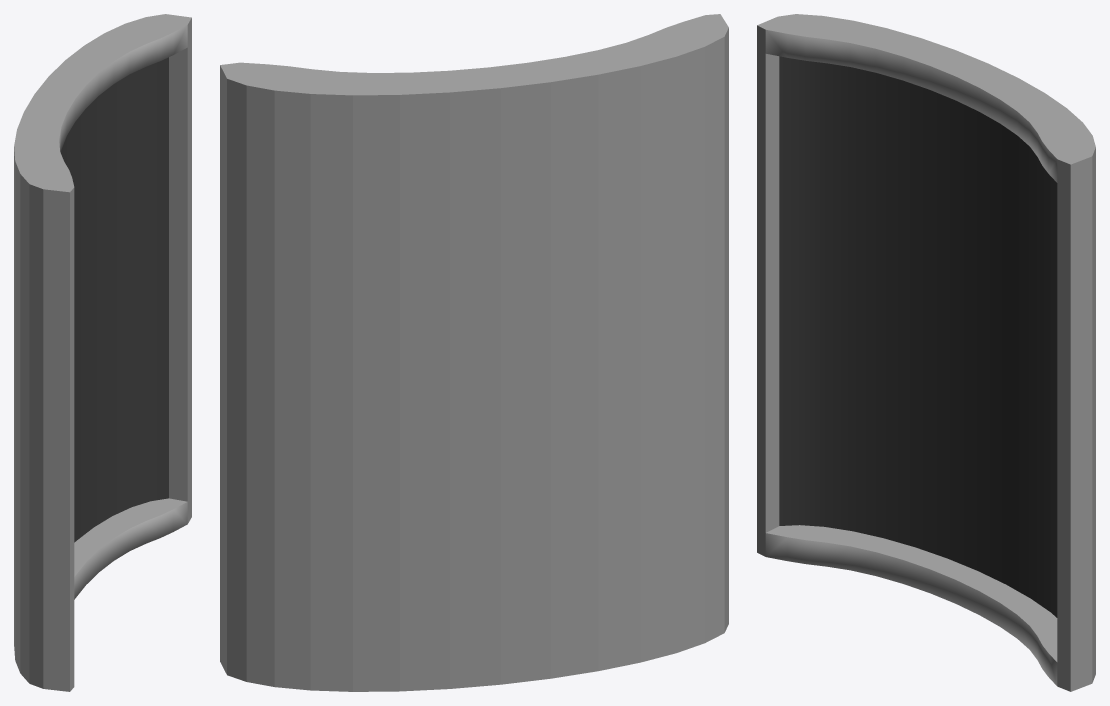
The model's file is -Eject Monitor-.fbx.
The picture shows the model from 3 angles, left to right: view 1: azimuth 30°, elevation 25°; view 2: azimuth 150°, elevation 25°; view 3: azimuth 270°, elevation 25°; orthographic projection. The views are drawn at different scales.
Visible parts, largest first — view 1: Eject_Monitor.Edge, Eject_Monitor.Screen; view 2: Eject_Monitor.Edge; view 3: Eject_Monitor.Screen, Eject_Monitor.Edge.
Part boxes in pixels (<box>): Eject_Monitor.Edge: <box>14,14,191,691</box>; Eject_Monitor.Screen: <box>61,57,168,542</box>; Eject_Monitor.Edge: <box>220,14,728,691</box>; Eject_Monitor.Screen: <box>779,56,1057,617</box>; Eject_Monitor.Edge: <box>757,14,1095,691</box>.
Bounding box in the file's own units: 1.27 × 2.07 × 1.2.
